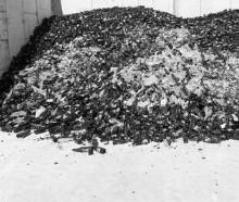glass: (73, 148, 94, 154)
